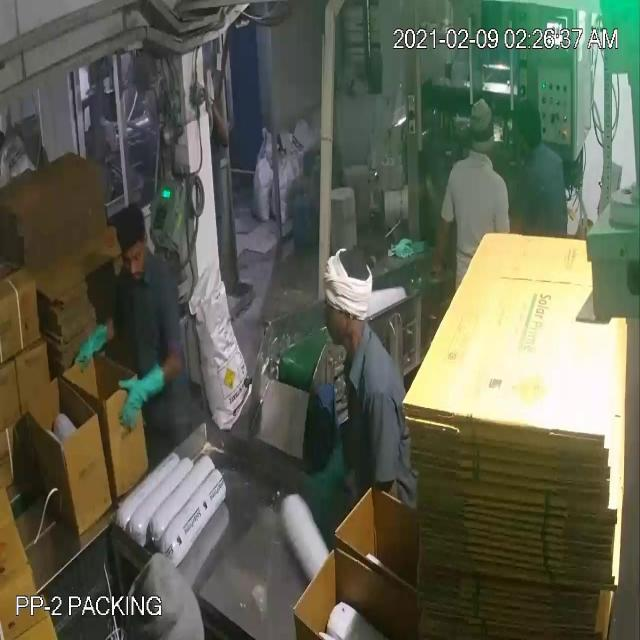Gloves: (24, 66, 440, 482)
